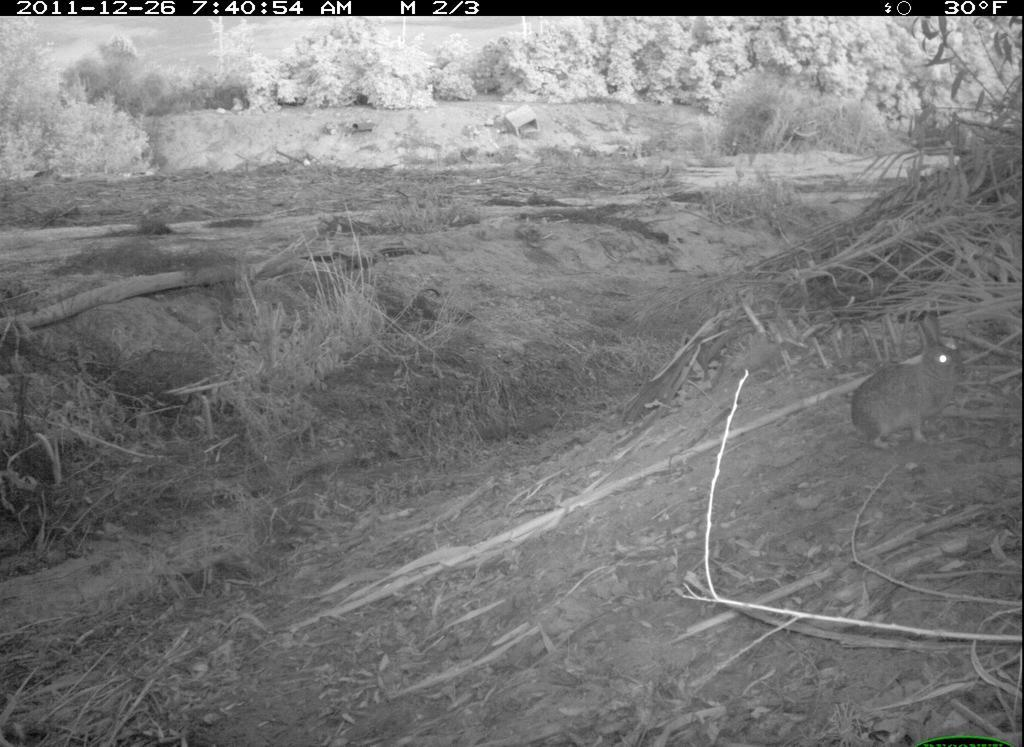rabbit: (843, 306, 976, 463)
